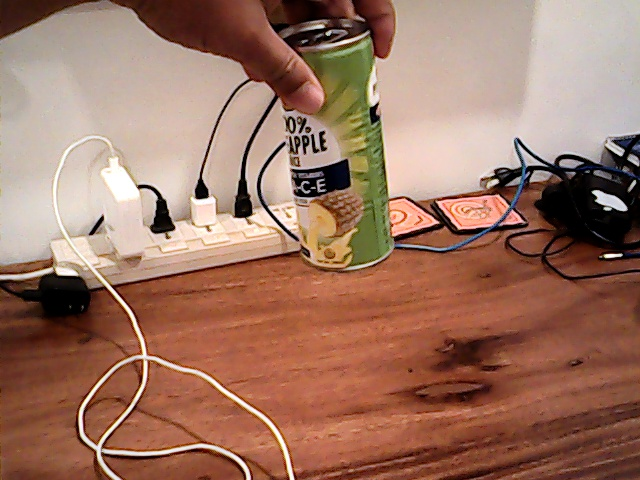Pine Juice: (271, 21, 410, 281)
